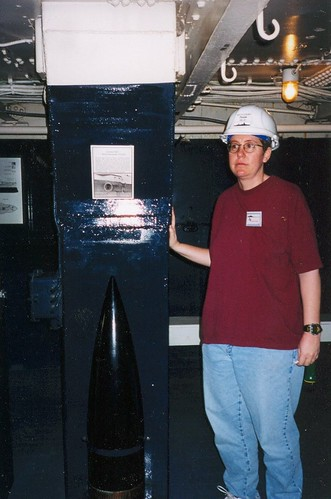person hardhat: (173, 100, 319, 499)
